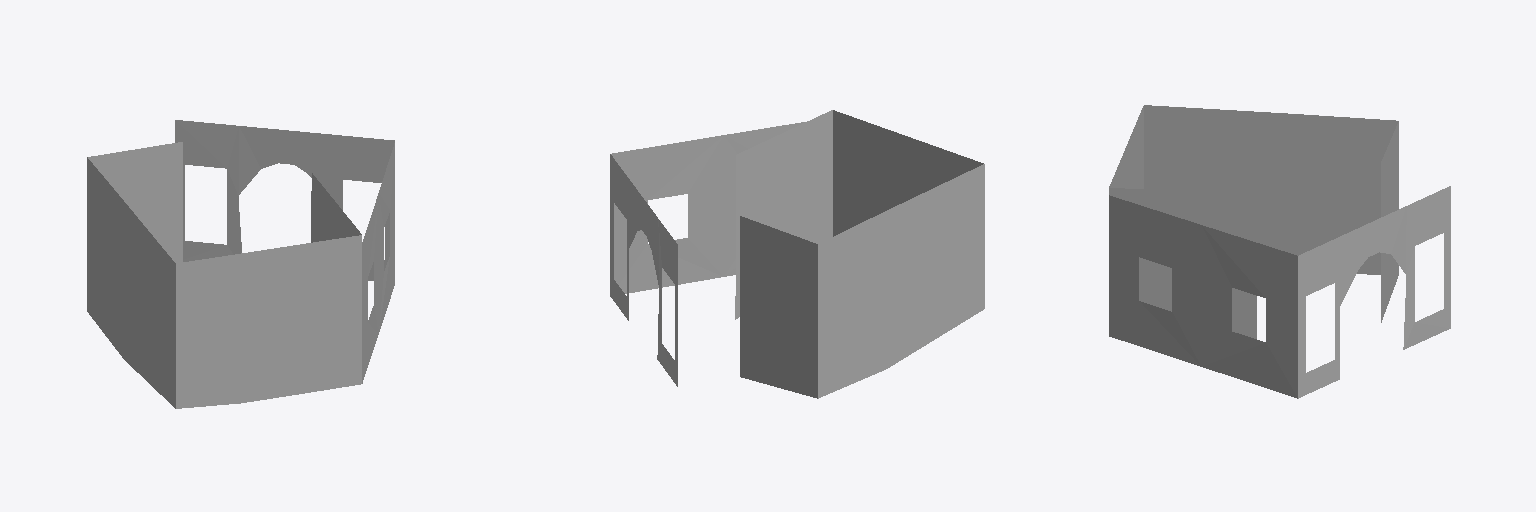
File: venice_28.obj
3 views of the same model, side by side, from view 1: azimuth 30°, elevation 25°; view 2: azimuth 150°, elevation 25°; view 3: azimuth 270°, elevation 25° (orthographic).
Bounding box in the file's own units: 7.64 × 4.07 × 7.63.